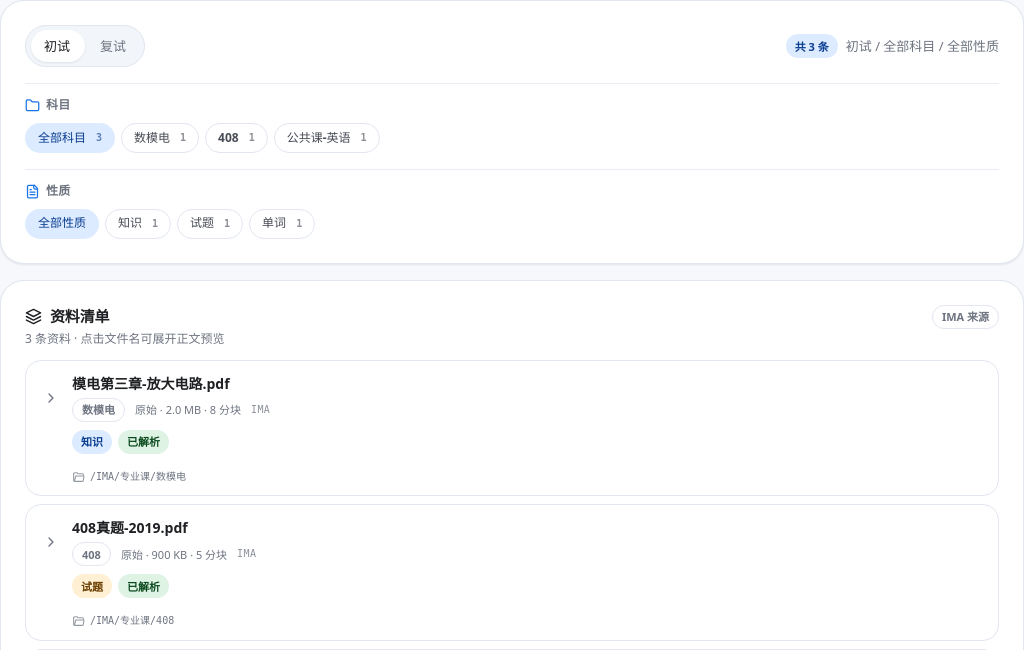
Scenario: 学习文库 Library 页面 › 点击文件名展开正文预览（GET /documents/{id}/content）
This screenshot has width=1024, height=650.
(page scrolled)
Click the text "模电第三章-放大电路.pdf": (151, 384) top-left (72, 374), bottom-right (230, 393)
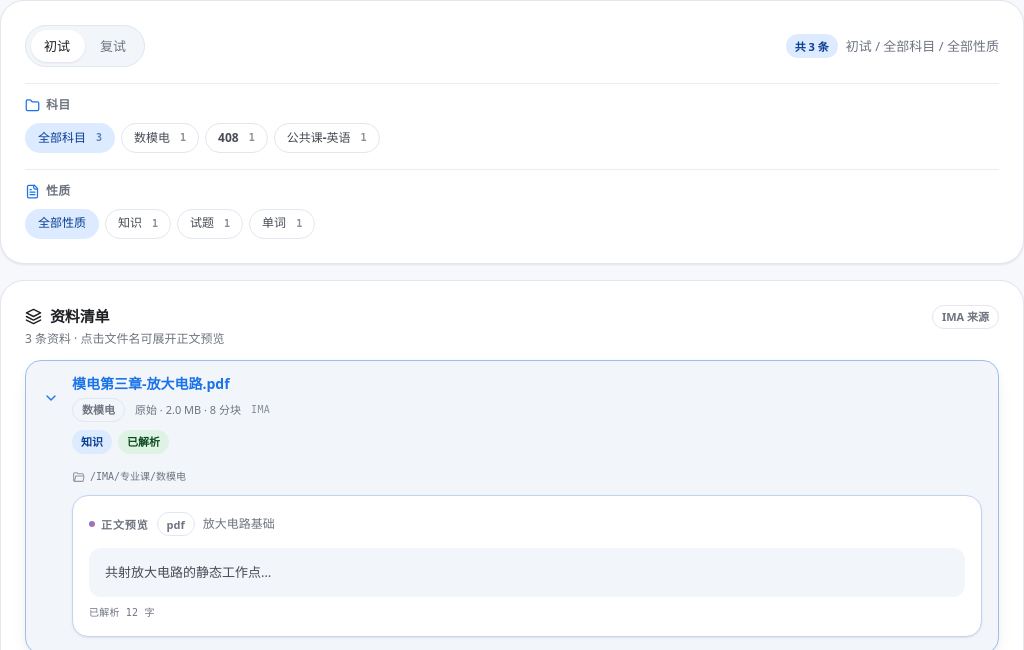
Result: the text "共射放大电路的静态工作点…" is shown at top-left (89, 548), bottom-right (965, 596)
